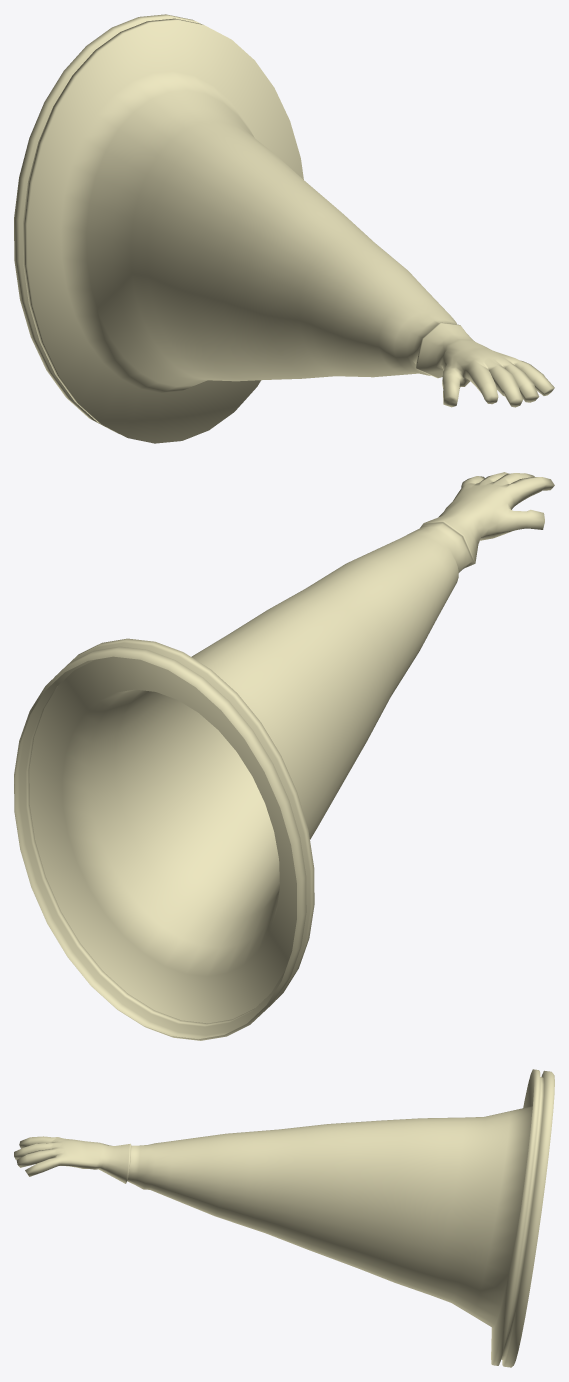
The model's file is glove kempes animated.fbx.
3 views of the same model, one above another, from view 1: azimuth 30°, elevation 25°; view 2: azimuth 150°, elevation 25°; view 3: azimuth 270°, elevation 25° (orthographic). The views are drawn at different scales.
Visible parts, largest first — view 1: glove demonstration.001; view 2: glove demonstration.001; view 3: glove demonstration.001.
Boxes of the visible parts, x1,y1,x2,y2 form: glove demonstration.001: [14, 14, 554, 443]; glove demonstration.001: [14, 472, 554, 1040]; glove demonstration.001: [14, 1069, 554, 1367].
Bounding box in the file's own units: 30.76 × 41.99 × 72.82.
